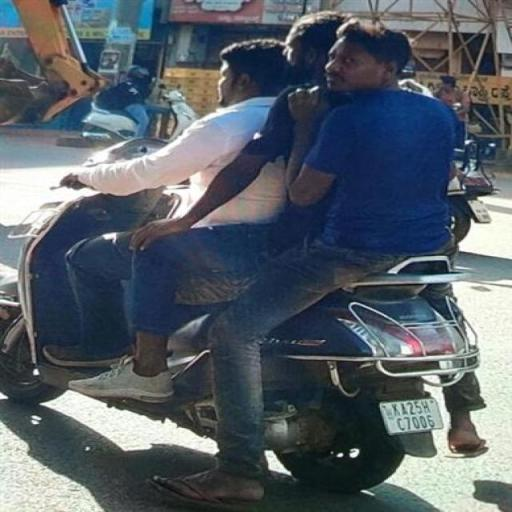tripple riding: (60, 8, 470, 274)
